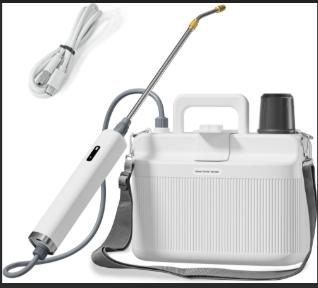PULVERISATEUR: (4, 6, 315, 275)
